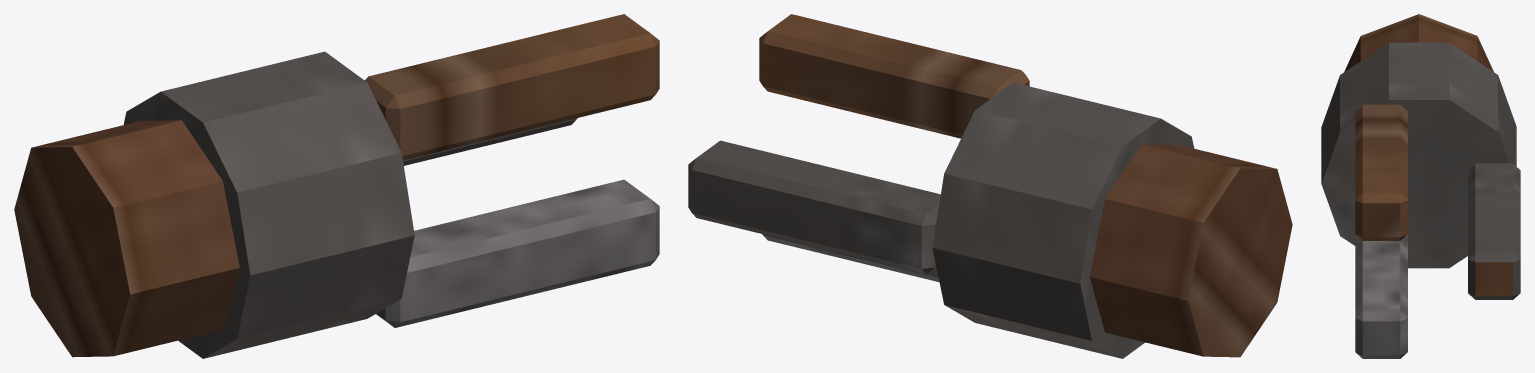
File: flare_cage.glb
3 views of the same model, side by side, from view 1: azimuth 30°, elevation 25°; view 2: azimuth 150°, elevation 25°; view 3: azimuth 270°, elevation 25° (orthographic). The views are drawn at different scales.
Parts seen in each view (by area): view 1: flare_cage; view 2: flare_cage; view 3: flare_cage.
Boxes of the visible parts, x1=… form: flare_cage: x1=14, y1=14, x2=659, y2=358; flare_cage: x1=688, y1=14, x2=1292, y2=358; flare_cage: x1=1321, y1=14, x2=1520, y2=358.
Size of the model in its own units: 0.06 by 0.0247 by 0.0265.
1 material, 1 textured.
